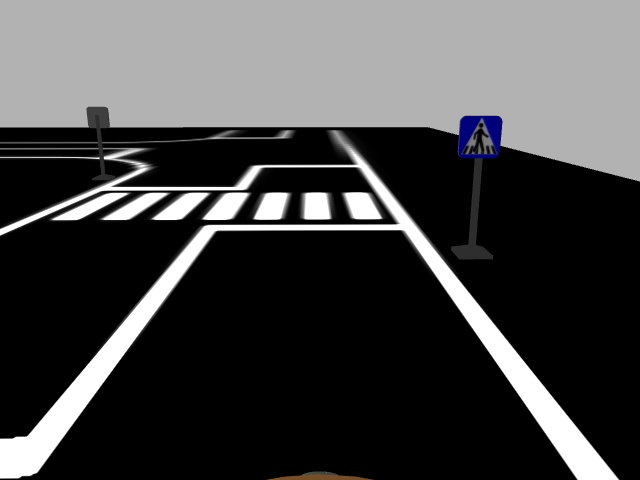crosswalk: (455, 114, 505, 161)
